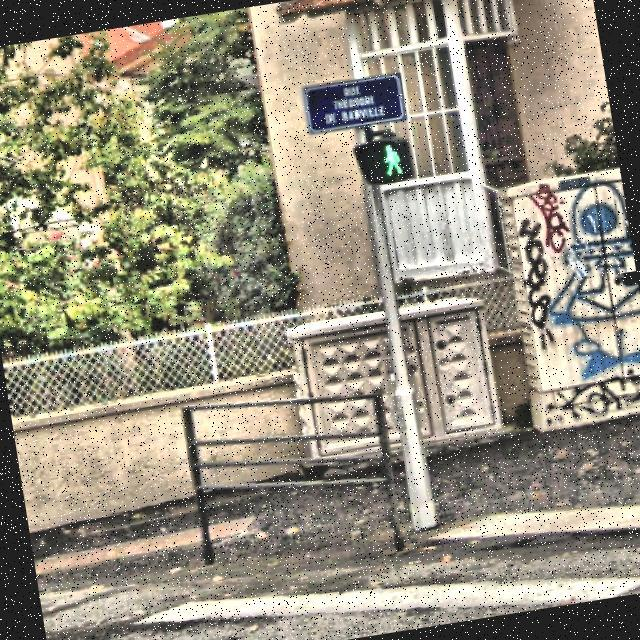green_light: (374, 134, 406, 180)
